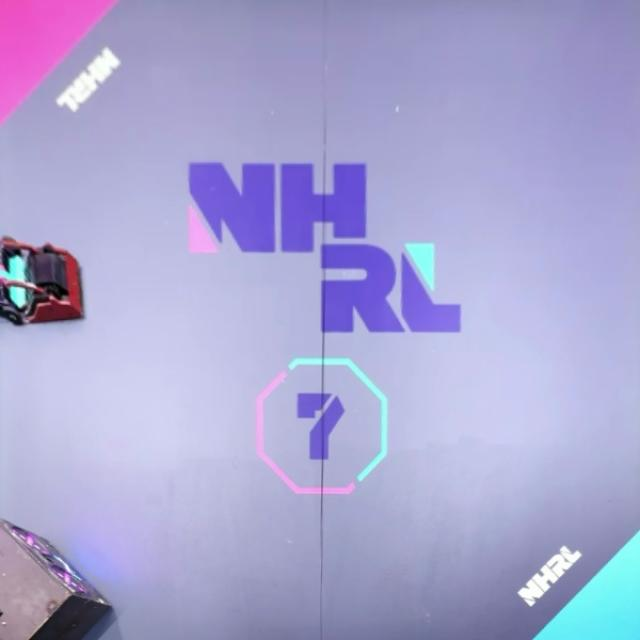housebot: (1, 516, 114, 640)
robot: (5, 238, 86, 326), (0, 233, 32, 329)
